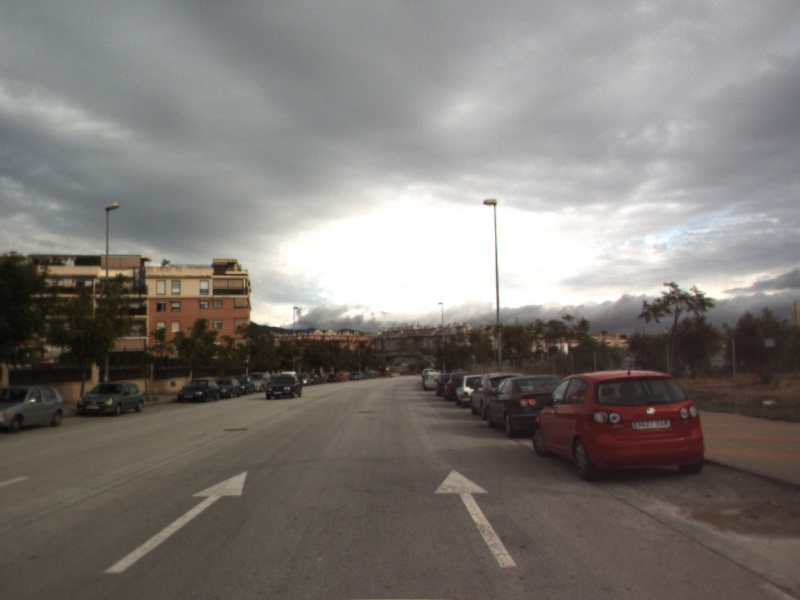STRAIGHT: (102, 469, 249, 575), (432, 467, 518, 568)
